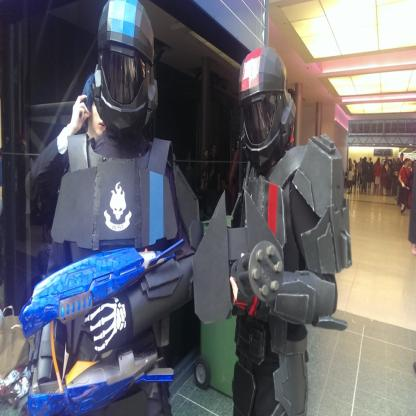Helmet: (88, 5, 156, 151), (236, 44, 298, 184)
